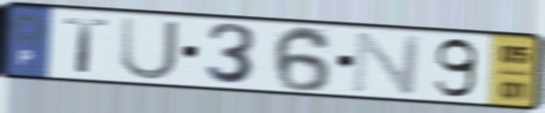3: (202, 21, 262, 88)
6: (270, 23, 336, 95)
9: (431, 36, 481, 100)
N: (349, 30, 426, 96)
T: (61, 15, 113, 75)
U: (118, 15, 182, 83)
